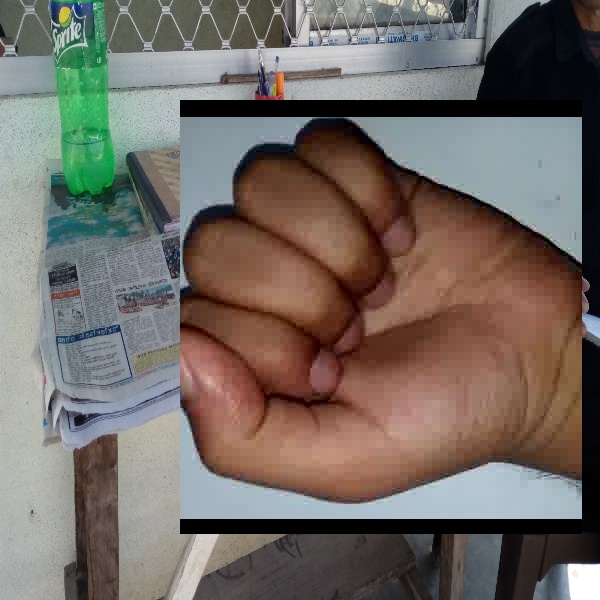A: (180, 100, 582, 534)
